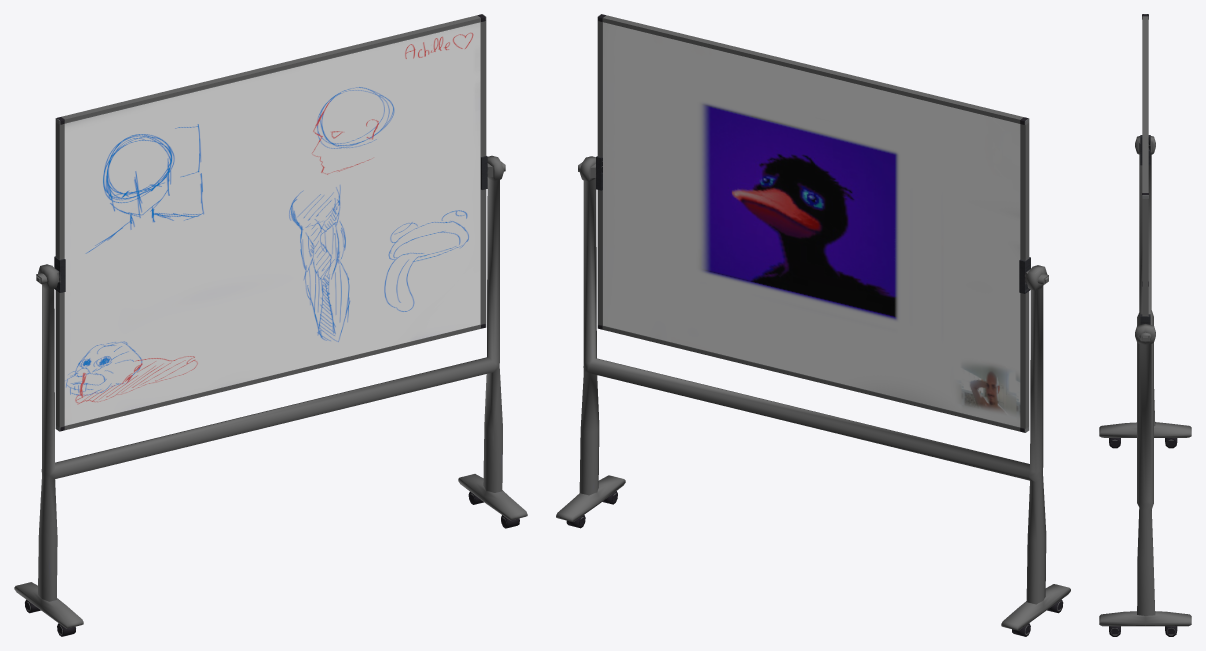
File: Tableau.FBX
3 views of the same model, side by side, from view 1: azimuth 30°, elevation 25°; view 2: azimuth 150°, elevation 25°; view 3: azimuth 270°, elevation 25° (orthographic). The views are drawn at different scales.
Visible parts, largest first — view 1: Box023; view 2: Box023; view 3: Box023.
Boxes of the visible parts, x1,y1,x2,y2 form: Box023: [14, 14, 527, 636]; Box023: [556, 14, 1070, 636]; Box023: [1099, 14, 1191, 636].
Bounding box in the file's own units: 80.11 × 82.09 × 15.8.
